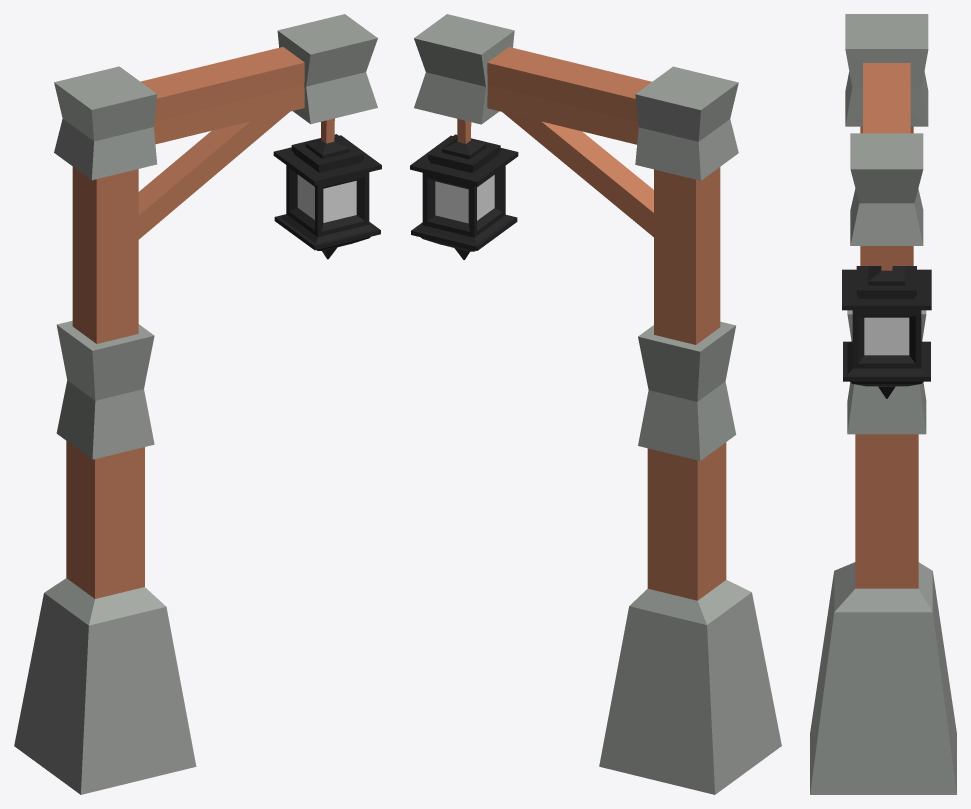
The model's file is POSTE ABAJUR FLAMEJANTE AZUL QUE E VERMELHO POR DENTRO COMO TODOS NÓS QUE PREZAMOS O BEM DOS PINGUINS RACISTAS QUE INFARTARAM DE TANTO DAR BARRIGADA NO MATEO.fbx.
The picture shows the model from 3 angles, left to right: view 1: azimuth 30°, elevation 25°; view 2: azimuth 150°, elevation 25°; view 3: azimuth 270°, elevation 25°; orthographic projection. The views are drawn at different scales.
Parts seen in each view (by area): view 1: Poste, Vidro; view 2: Poste, Vidro; view 3: Poste, Vidro.
Part boxes in pixels (x1=…): Poste: x1=14, y1=14, x2=381, y2=794; Vidro: x1=297, y1=174, x2=356, y2=222; Poste: x1=410, y1=14, x2=781, y2=794; Vidro: x1=435, y1=175, x2=494, y2=223; Poste: x1=810, y1=14, x2=956, y2=794; Vidro: x1=864, y1=317, x2=909, y2=355.
Size of the model in its own units: 287 by 580 by 105.
